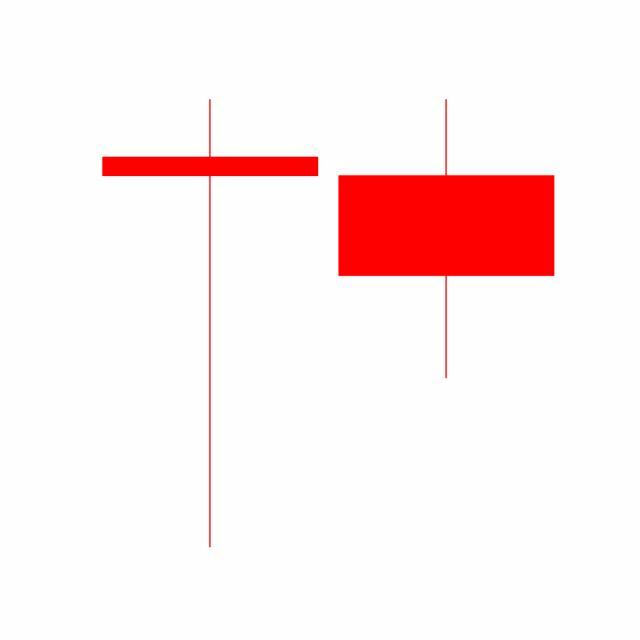Hanging Man: (328, 97, 566, 383)
